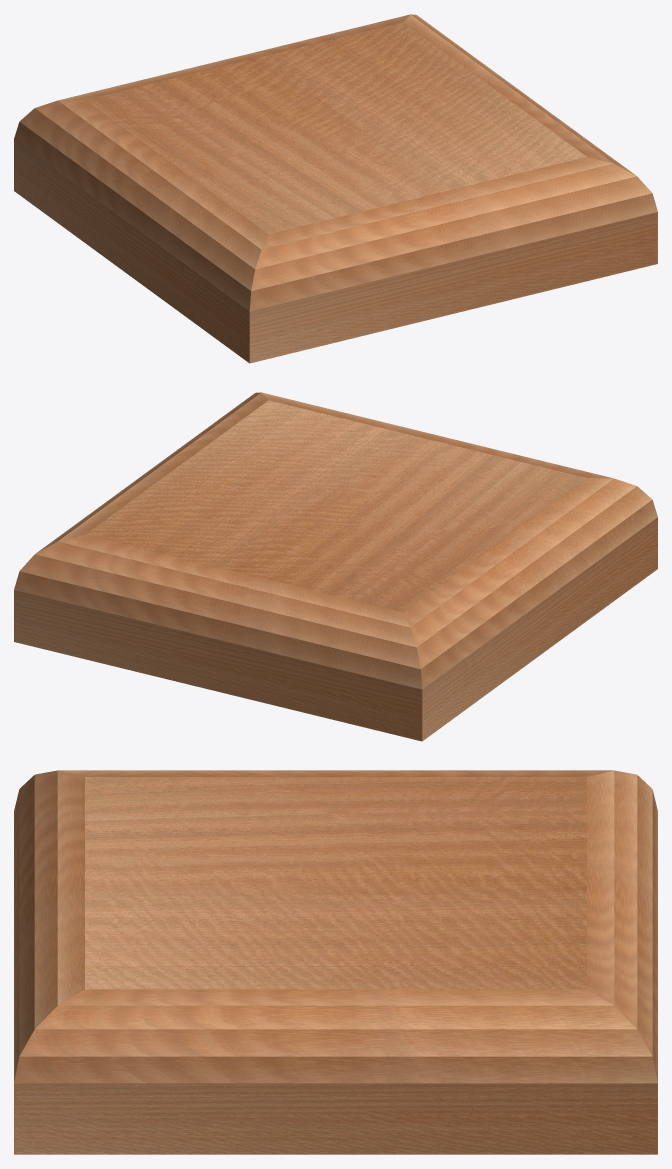
Rendered from LightPiece.fbx.
3 views of the same model, one above another, from view 1: azimuth 30°, elevation 25°; view 2: azimuth 150°, elevation 25°; view 3: azimuth 270°, elevation 25° (orthographic). The views are drawn at different scales.
Parts seen in each view (by area): view 1: LightPiece; view 2: LightPiece; view 3: LightPiece.
Part boxes in pixels (<box>): LightPiece: <box>14,14,657,363</box>; LightPiece: <box>14,392,657,741</box>; LightPiece: <box>14,770,657,1154</box>.
Size of the model in its own units: 200 by 46.39 by 200.
